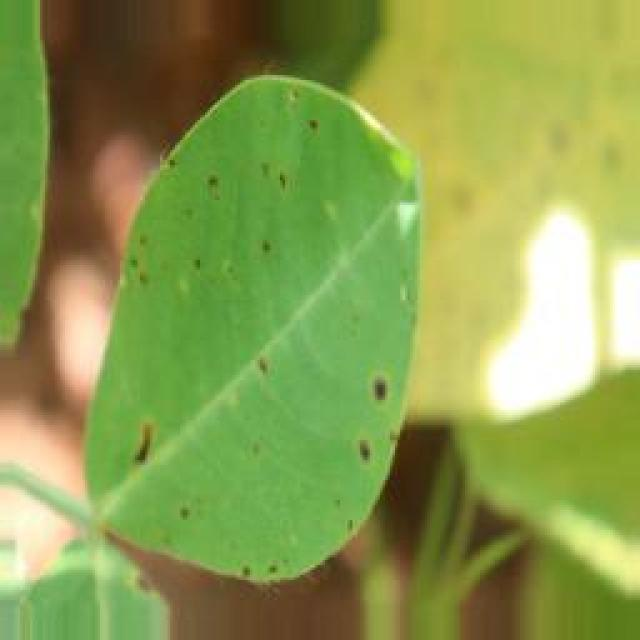Sigatoka: (107, 222, 166, 326), (168, 233, 229, 306), (211, 546, 308, 590), (251, 144, 306, 212), (330, 414, 396, 468), (287, 90, 335, 152), (152, 490, 192, 550), (114, 413, 163, 461), (254, 211, 284, 271), (185, 168, 225, 208), (250, 338, 281, 388), (372, 370, 402, 410), (165, 156, 190, 178)
